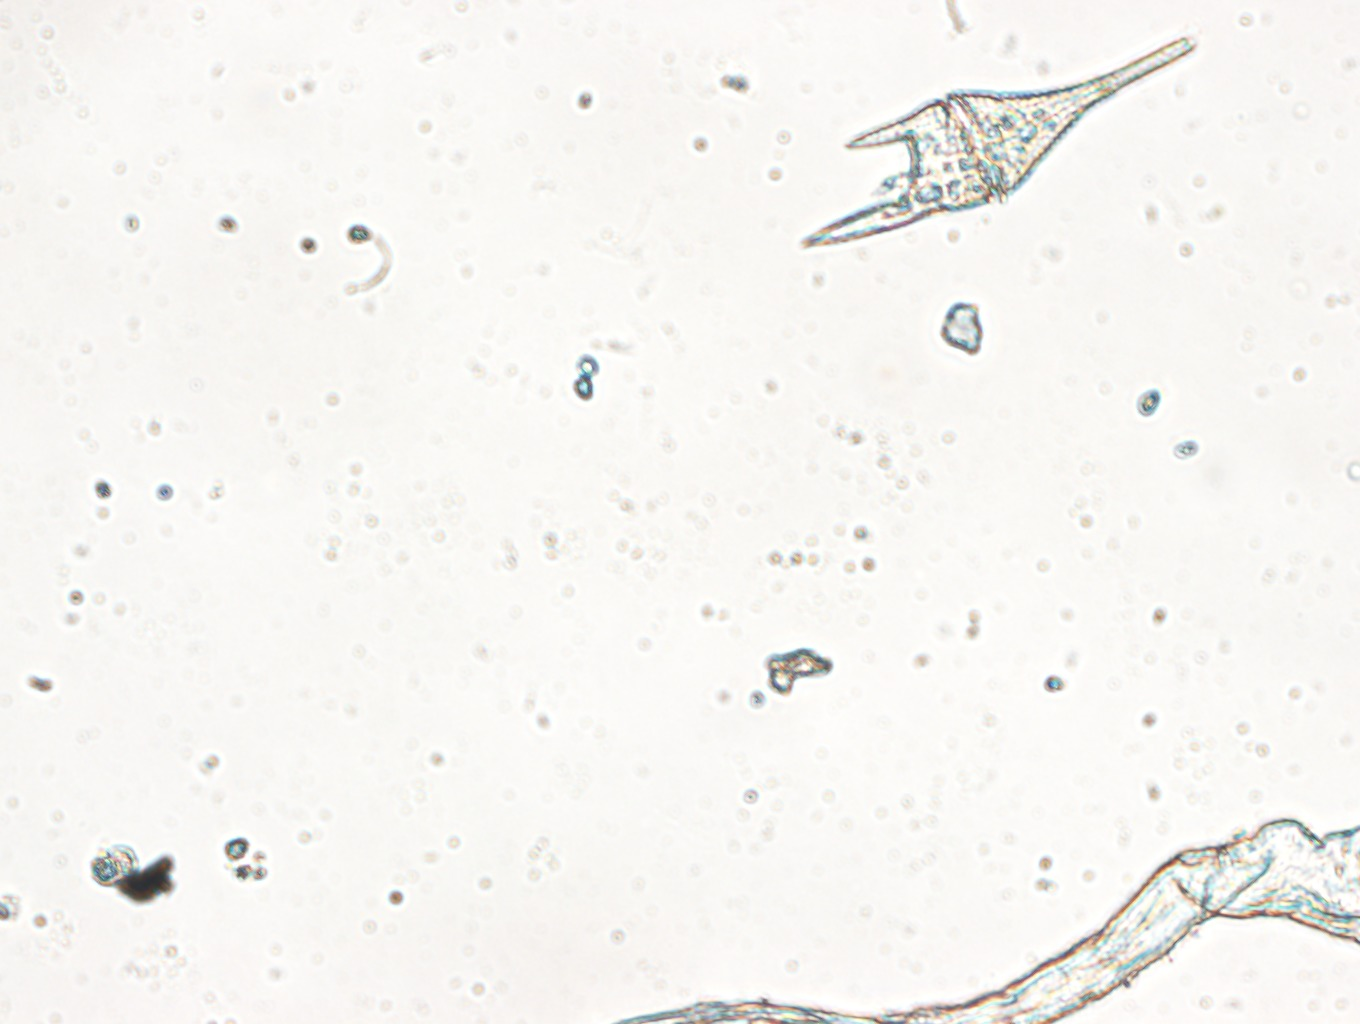ceratium furca: (791, 29, 1202, 252)
